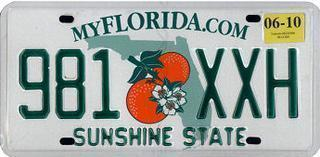placa de veiculo: (5, 3, 314, 153)
